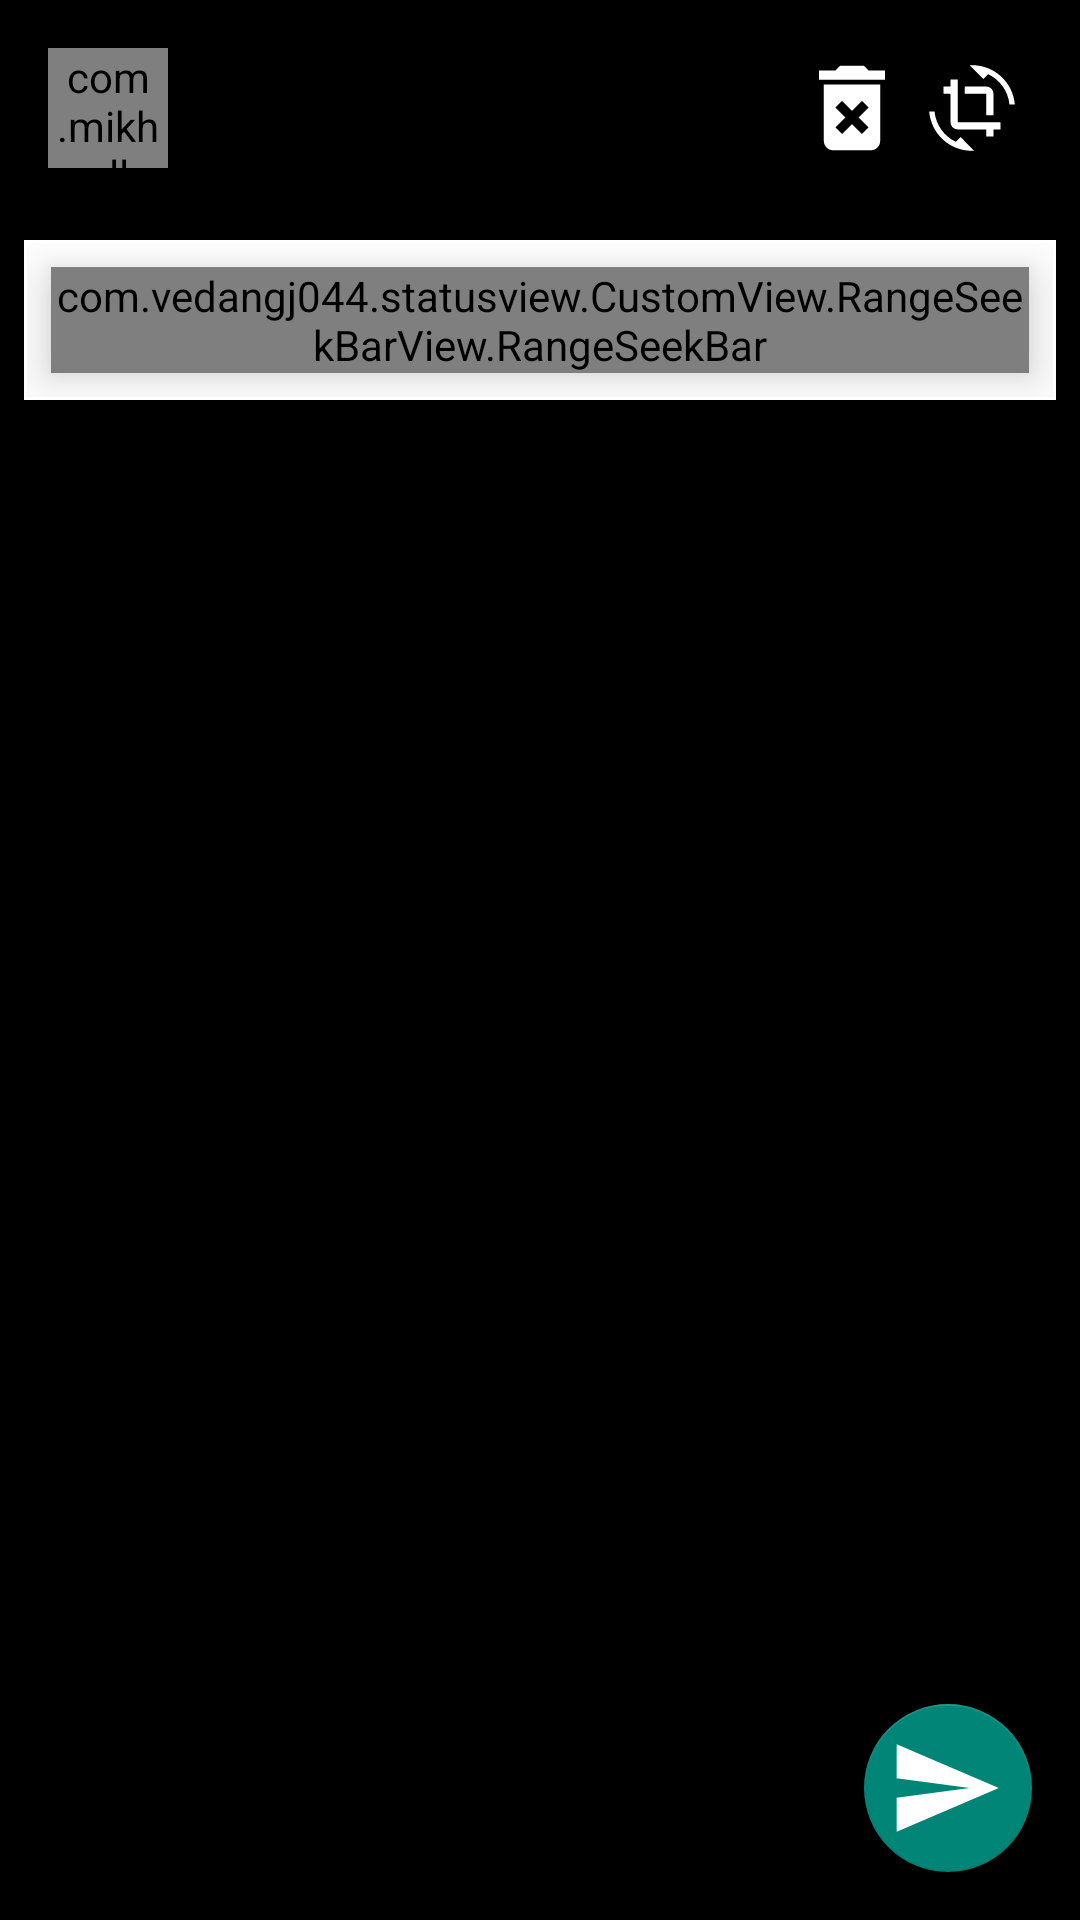

Point at icon controls on the screen. Image size 1080px×1920px, points as [x,y].
camera crop rotate: [972,108]
camera delete: [852,108]
send arrow: [948,1788]
